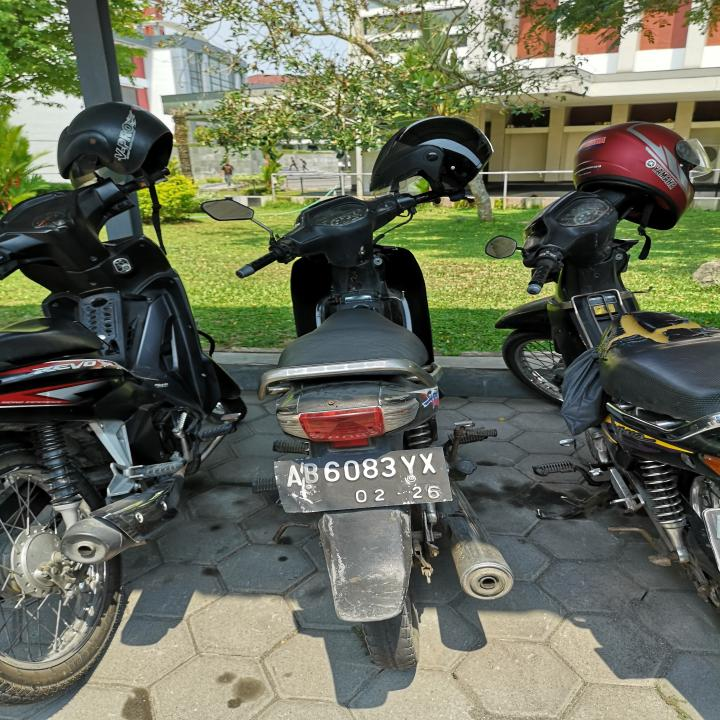plate: (272, 446, 451, 515)
